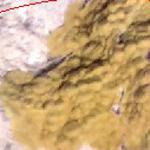alive: (6, 4, 147, 147)
